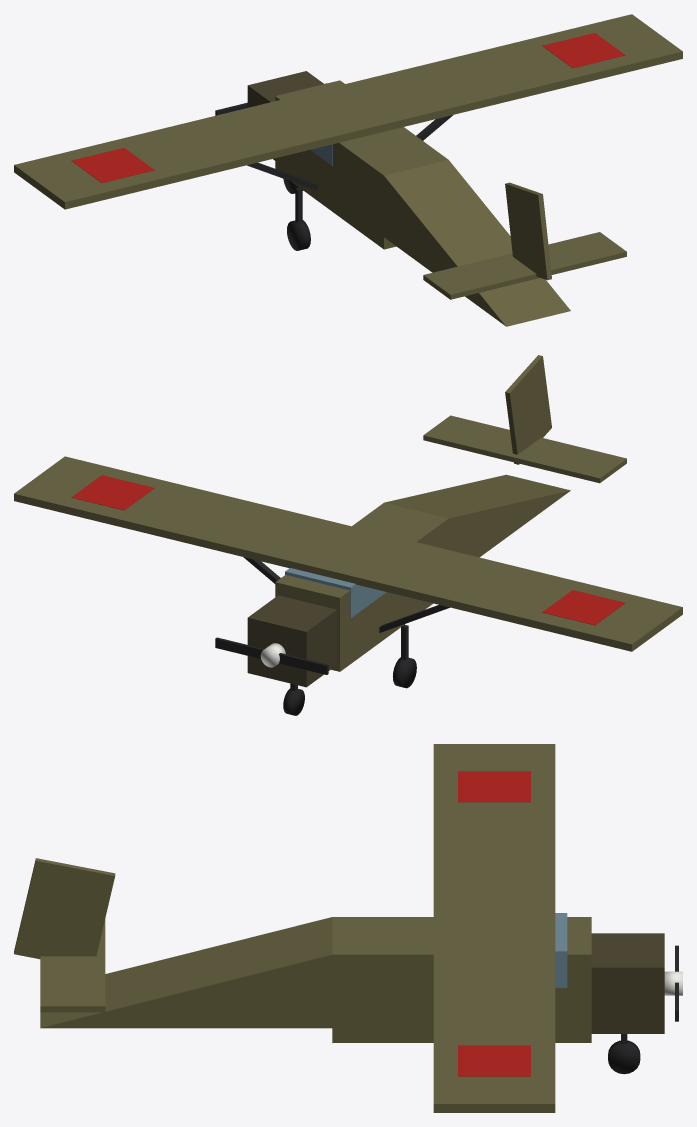
Rendered from Observer_Red.fbx.
3 renders of one model, top to bottom at view 1: azimuth 30°, elevation 25°; view 2: azimuth 150°, elevation 25°; view 3: azimuth 270°, elevation 25°, orthographic. The views are drawn at different scales.
Visible parts, largest first — view 1: Wing, TailCone, Fuselage, Stabilizer, Fin, WingMarkR, WingMarkL, Engine, MainGearL, StrutL; view 2: Wing, Fuselage, TailCone, Engine, Stabilizer, Fin, WingMarkL, WingMarkR, Windows, PropBlades, MainGearL; view 3: Wing, TailCone, Fuselage, Fin, Engine, Stabilizer, WingMarkL, WingMarkR, Windows, NoseGear.
Part boxes in pixels (x1,y1,x2,y2): Wing: [14, 14, 682, 209]; TailCone: [384, 160, 570, 326]; Fuselage: [275, 80, 448, 249]; Stabilizer: [423, 232, 626, 299]; Fin: [505, 182, 551, 280]; WingMarkR: [542, 33, 625, 68]; WingMarkL: [71, 148, 154, 182]; Engine: [247, 71, 323, 160]; MainGearL: [287, 220, 310, 250]; StrutL: [247, 162, 317, 190]; Wing: [14, 456, 682, 651]; Fuselage: [275, 502, 448, 671]; TailCone: [385, 474, 570, 557]; Engine: [247, 595, 336, 687]; Stabilizer: [423, 415, 626, 483]; Fin: [505, 355, 551, 464]; WingMarkL: [542, 590, 625, 625]; WingMarkR: [71, 475, 154, 510]; Windows: [285, 568, 386, 618]; PropBlades: [215, 637, 328, 674]; MainGearL: [393, 657, 416, 688]; Wing: [433, 744, 555, 1112]; TailCone: [40, 917, 332, 1028]; Fuselage: [332, 917, 591, 1042]; Fin: [14, 858, 115, 959]; Engine: [591, 933, 664, 1033]; Stabilizer: [40, 919, 105, 1012]; WingMarkL: [458, 771, 530, 802]; WingMarkR: [458, 1045, 530, 1076]; Windows: [555, 913, 567, 987]; NoseGear: [608, 1040, 640, 1074].
Bounding box in the file's own units: 1050 × 825 × 291.
